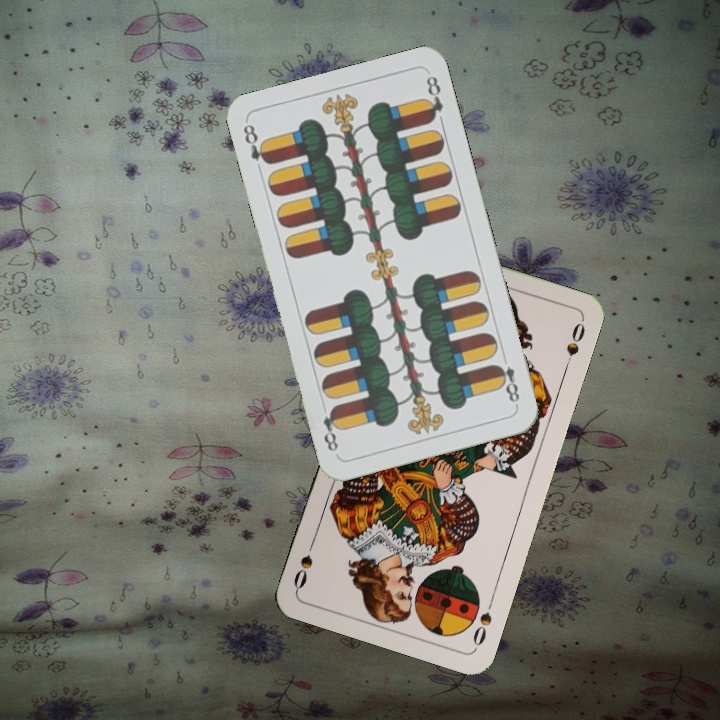E8: (491, 350, 522, 408), (239, 120, 273, 167)
SO: (468, 607, 495, 649)
